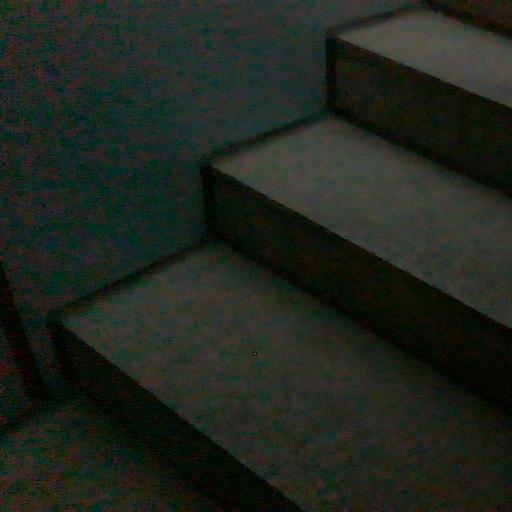stairs: (49, 9, 511, 511), (57, 242, 511, 511), (205, 115, 511, 405), (328, 8, 511, 193), (427, 0, 511, 35)
